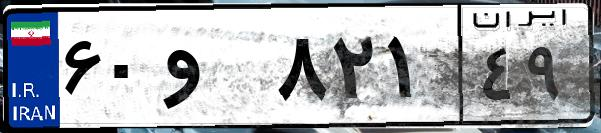0: (110, 28, 158, 98)
1: (385, 28, 445, 110)
2: (330, 28, 385, 110)
4: (475, 38, 525, 113)
6: (57, 26, 110, 100)
8: (270, 28, 330, 110)
9: (525, 38, 570, 115)
و: (158, 20, 270, 120)
